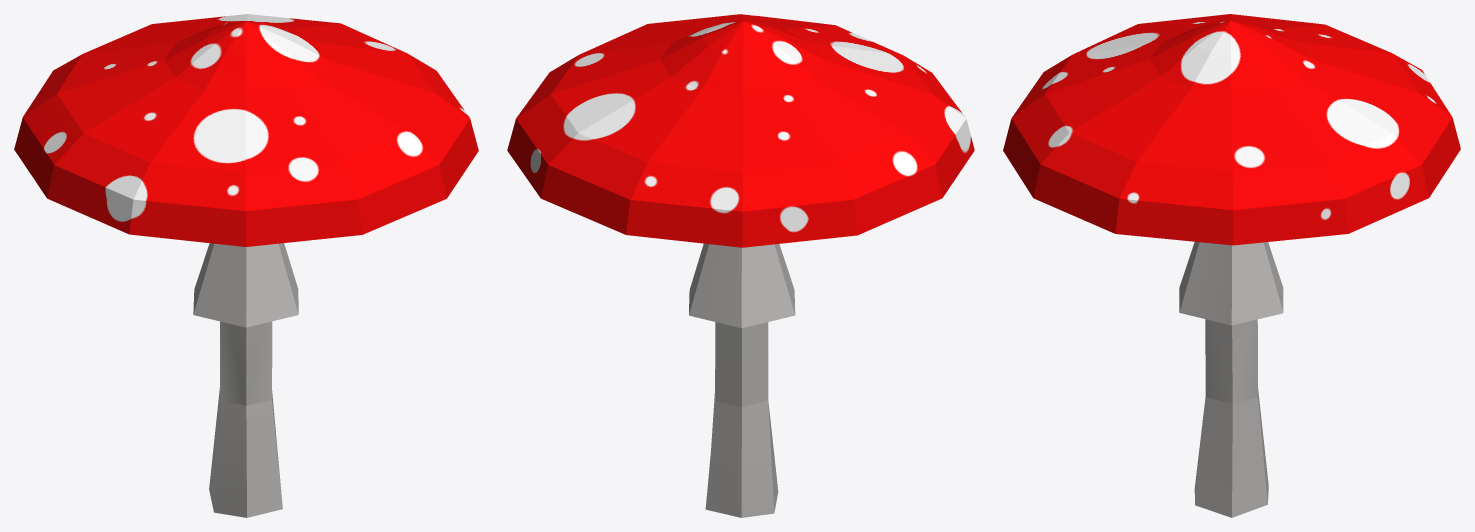
File: Amanitaceae_1.fbx
The picture shows the model from 3 angles, left to right: view 1: azimuth 30°, elevation 25°; view 2: azimuth 150°, elevation 25°; view 3: azimuth 270°, elevation 25°; orthographic projection.
Parts seen in each view (by area): view 1: Myxomor; view 2: Myxomor; view 3: Myxomor.
Boxes of the visible parts, box(x1,y1,x2,y2) form: Myxomor: box(14, 14, 478, 517); Myxomor: box(507, 14, 974, 517); Myxomor: box(1003, 14, 1460, 517).
Size of the model in its own units: 67.02 by 77.85 by 67.29.
